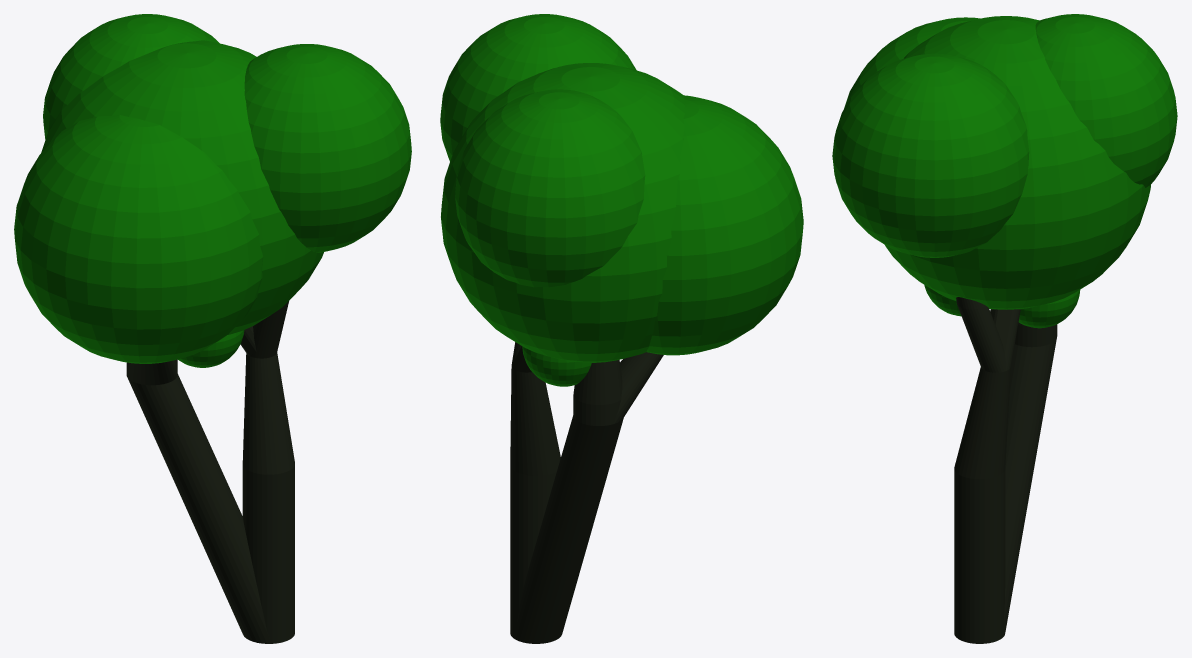
File: alien_tree.fbx
The picture shows the model from 3 angles, left to right: view 1: azimuth 30°, elevation 25°; view 2: azimuth 150°, elevation 25°; view 3: azimuth 270°, elevation 25°; orthographic projection. The views are drawn at different scales.
Visible parts, largest first — view 1: Sphere, Cylinder; view 2: Sphere, Cylinder; view 3: Sphere, Cylinder.
Part boxes in pixels (<box>): Sphere: <box>14,14,411,367</box>; Cylinder: <box>126,301,294,643</box>; Sphere: <box>440,14,803,386</box>; Cylinder: <box>510,342,663,643</box>; Sphere: <box>832,14,1177,328</box>; Cylinder: <box>954,297,1057,643</box>.
Bounding box in the file's own units: 1543 × 2491 × 1350.
